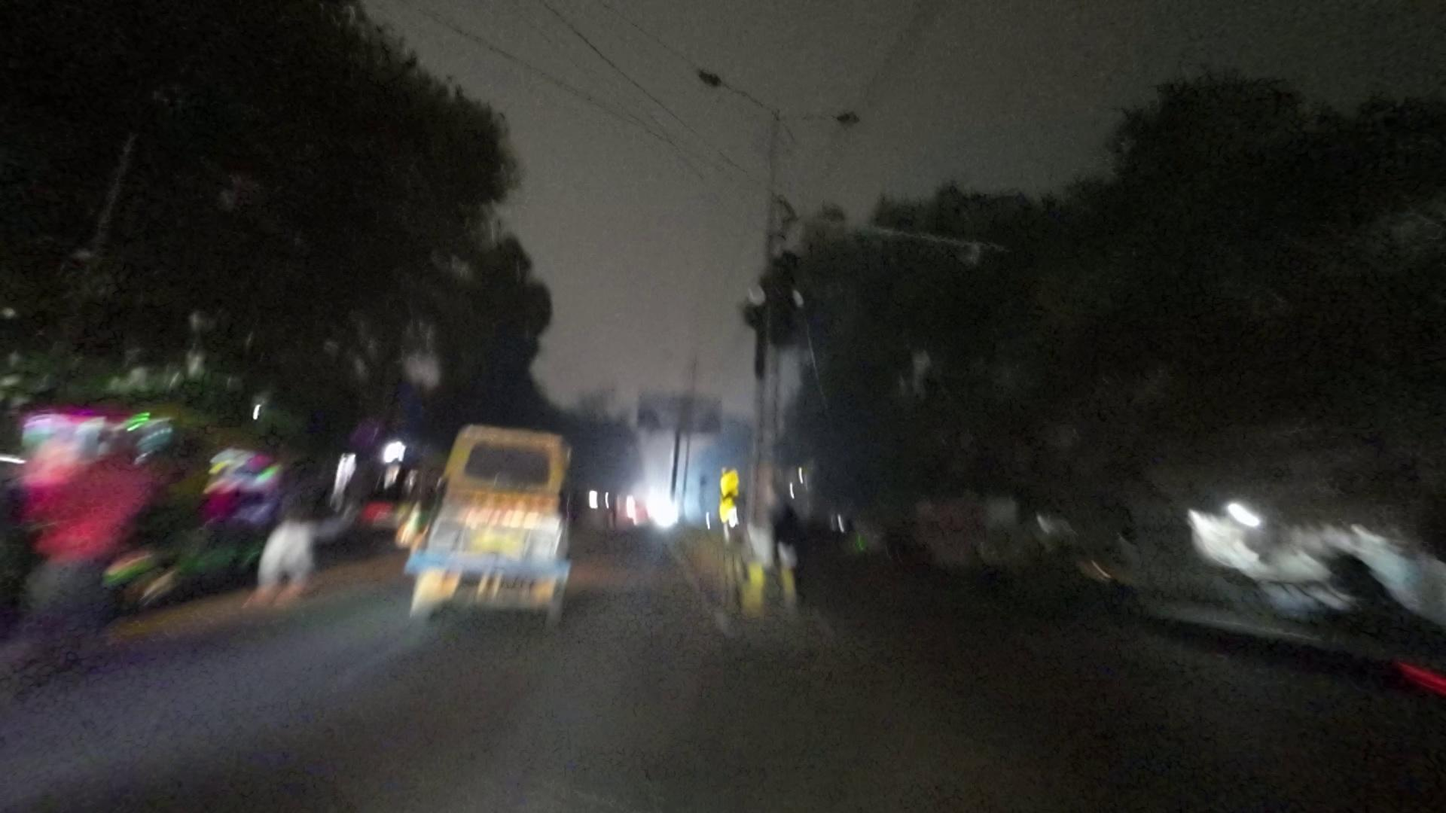streetlight: (697, 64, 781, 112), (783, 107, 864, 135)
